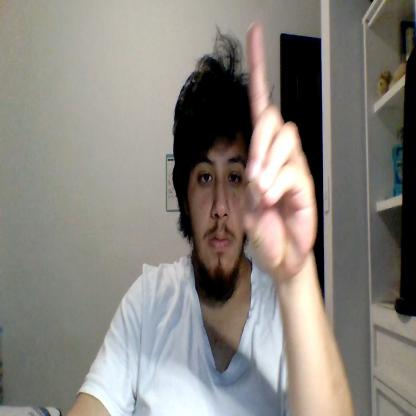D: (240, 24, 316, 276)
